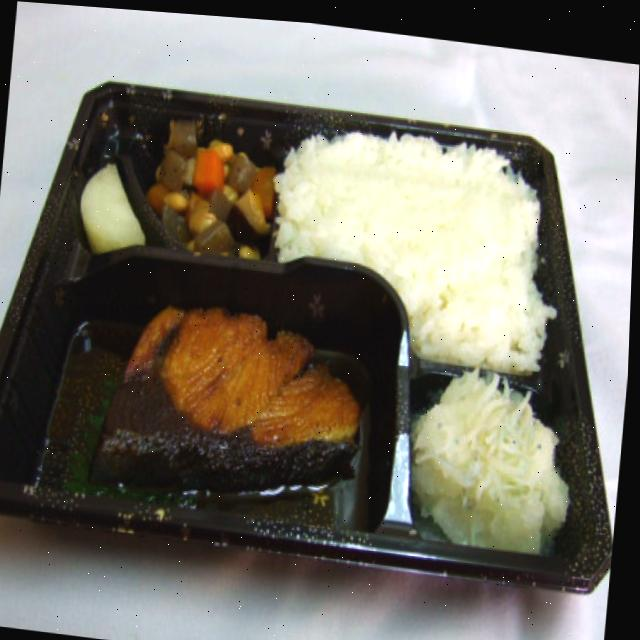熟制海鲜: (79, 261, 388, 536)
